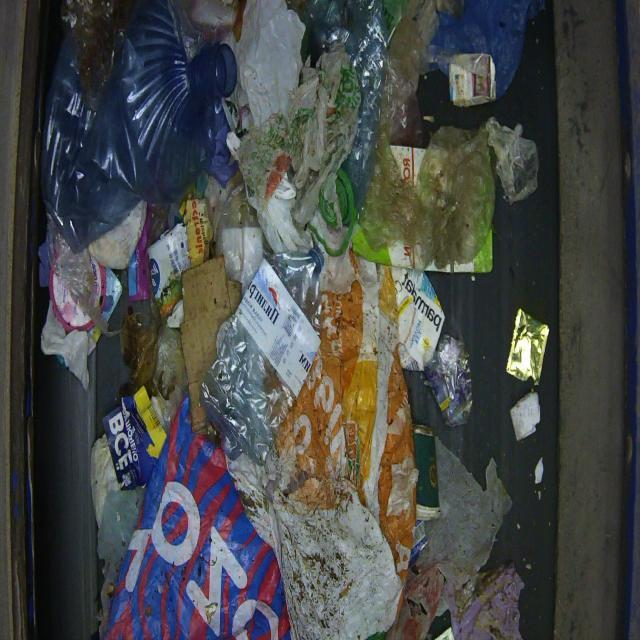cups: (411, 423, 441, 521), (447, 51, 496, 107)
other-trash: (34, 0, 552, 638)
